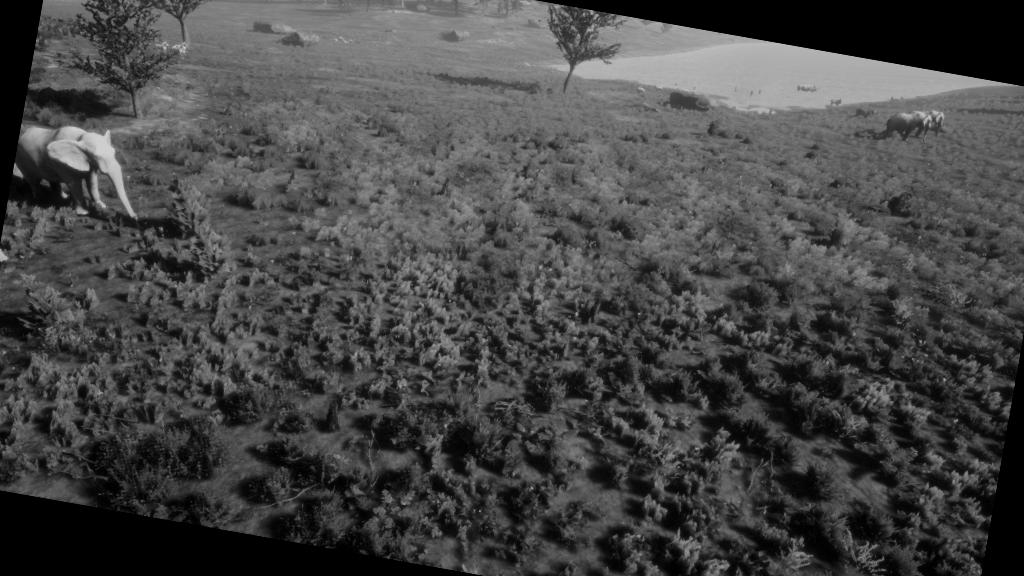elephant: (6, 106, 181, 236), (881, 104, 936, 146)
